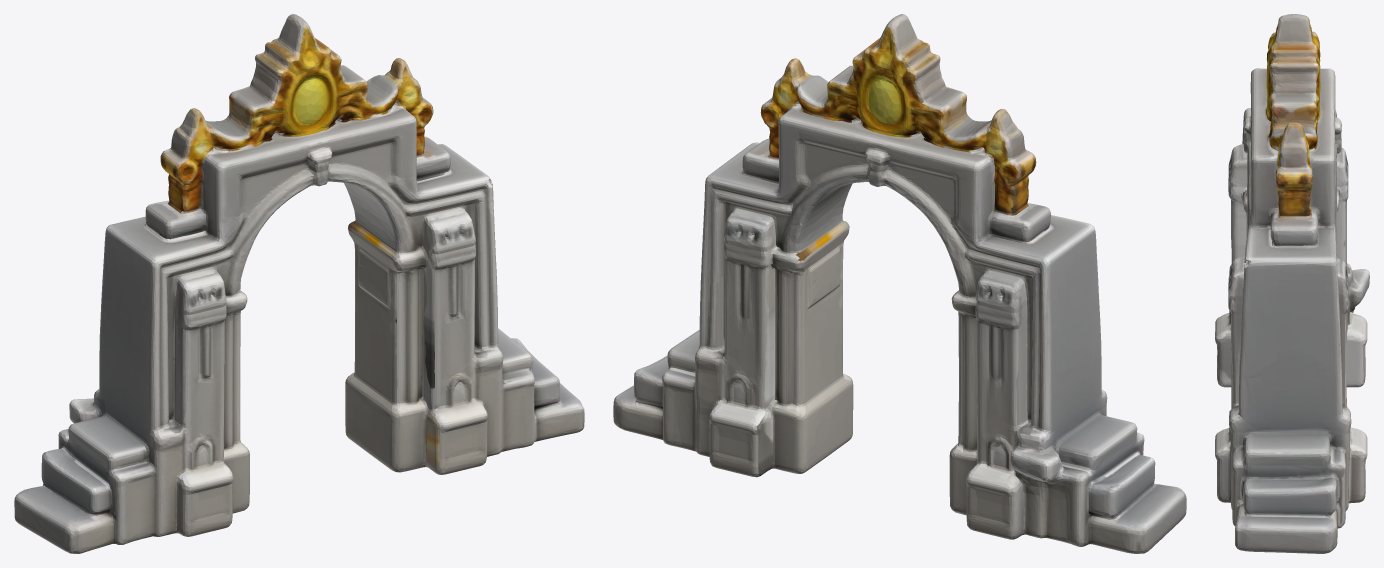
File: colosseum_grand_arch.glb
3 renders of one model, left to right at view 1: azimuth 30°, elevation 25°; view 2: azimuth 150°, elevation 25°; view 3: azimuth 270°, elevation 25°, orthographic. The views are drawn at different scales.
Visible parts, largest first — view 1: tmpyp7psa7m.ply; view 2: tmpyp7psa7m.ply; view 3: tmpyp7psa7m.ply.
Boxes of the visible parts, x1,y1,x2,y2 form: tmpyp7psa7m.ply: (14, 14, 584, 553); tmpyp7psa7m.ply: (613, 14, 1186, 553); tmpyp7psa7m.ply: (1215, 14, 1369, 553).
Bounding box in the file's own units: 1.99 × 1.64 × 0.5447.
1 material, 1 textured.
